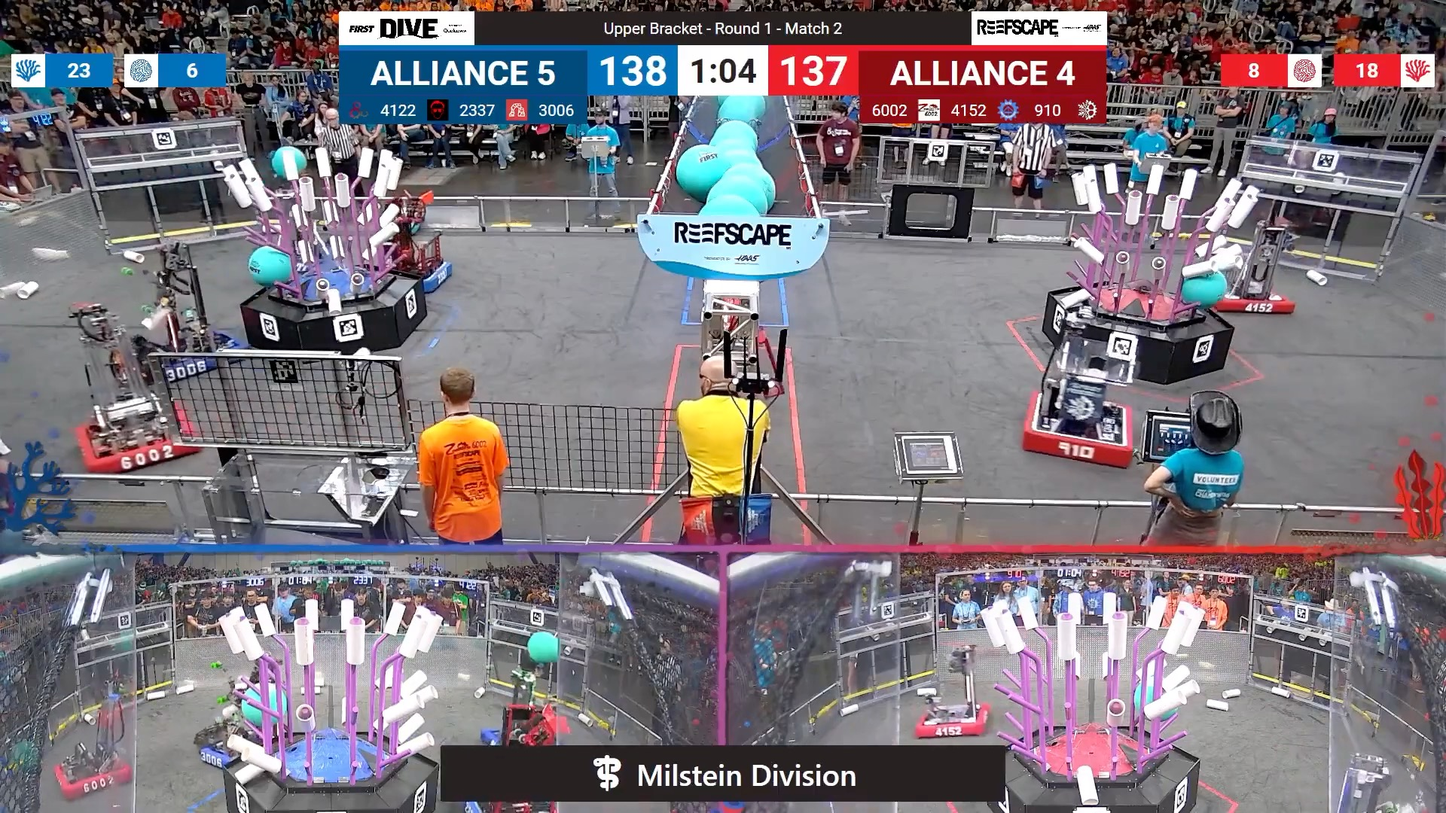bumpers: (71, 398, 207, 480), (98, 327, 246, 398), (1015, 387, 1140, 471), (47, 746, 136, 801), (471, 702, 570, 748), (911, 699, 997, 744), (1206, 280, 1298, 319), (384, 254, 460, 294), (195, 735, 251, 771)
